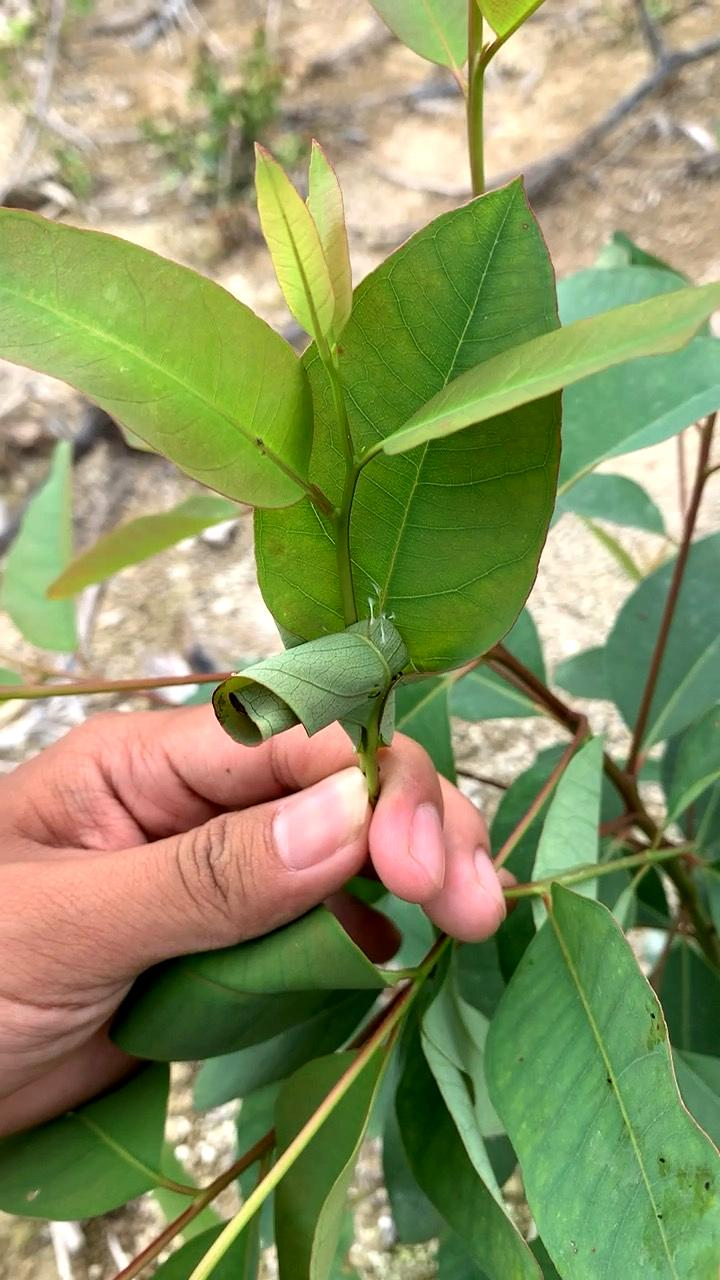Leaf Roller - Leaf: (181, 573, 473, 782)
